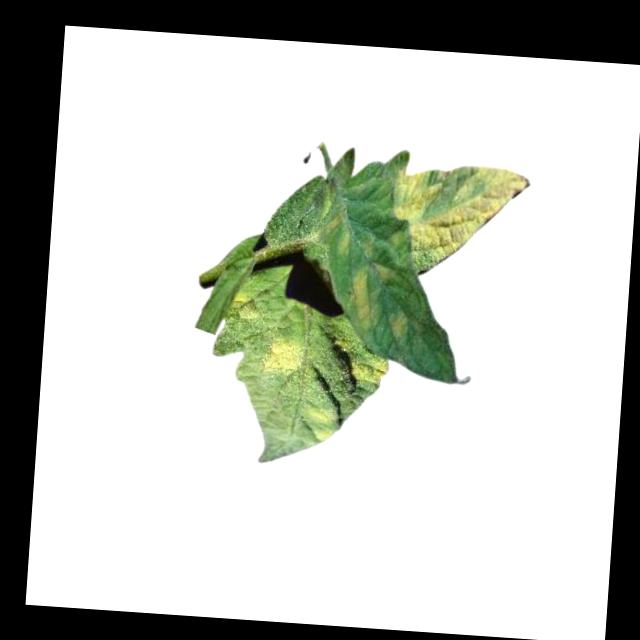Leaf_Mold: (389, 160, 531, 268), (262, 333, 311, 378), (348, 267, 379, 332), (304, 404, 340, 446), (352, 352, 389, 387), (226, 289, 260, 325), (387, 307, 409, 344)
